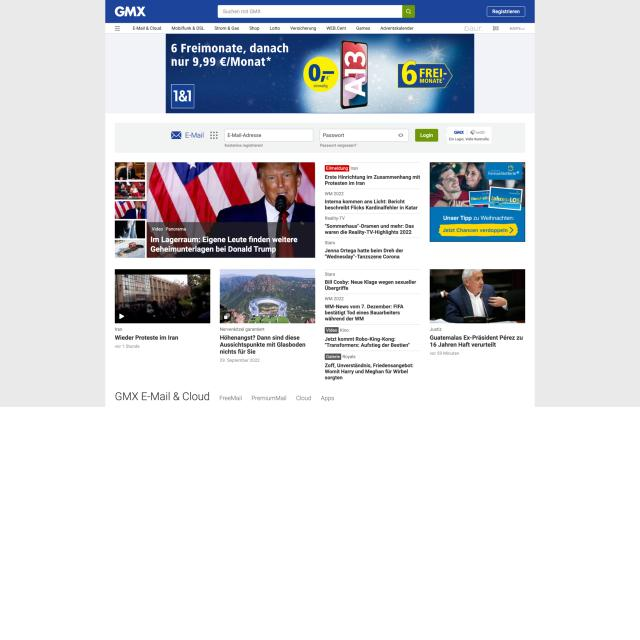input: (218, 4, 415, 18), (224, 128, 314, 142), (319, 128, 409, 142)
logo: (112, 5, 149, 19)
navigation: (114, 24, 415, 32)
video: (114, 268, 211, 324)
